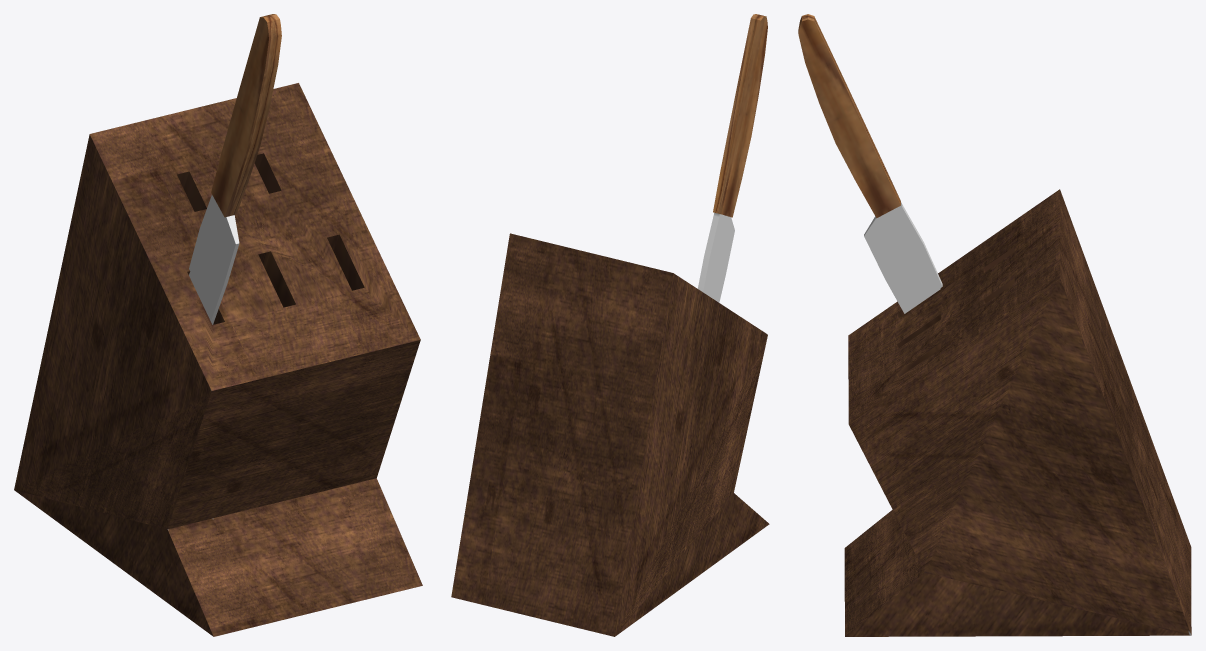
Rendered from Cooking Simulator Models.fbx.
3 renders of one model, left to right at view 1: azimuth 30°, elevation 25°; view 2: azimuth 150°, elevation 25°; view 3: azimuth 270°, elevation 25°, orthographic. The views are drawn at different scales.
Visible parts, largest first — view 1: knife holder, knife 1.001; view 2: knife holder, knife 1.001; view 3: knife holder, knife 1.001.
Part boxes in pixels (bbox=[...]): knife holder: bbox=[14, 83, 422, 636]; knife 1.001: bbox=[189, 14, 281, 324]; knife holder: bbox=[451, 233, 769, 636]; knife 1.001: bbox=[697, 14, 767, 302]; knife holder: bbox=[844, 189, 1191, 636]; knife 1.001: bbox=[798, 14, 942, 313].
Bounding box in the file's own units: 0.1548 × 0.4423 × 0.2884.
